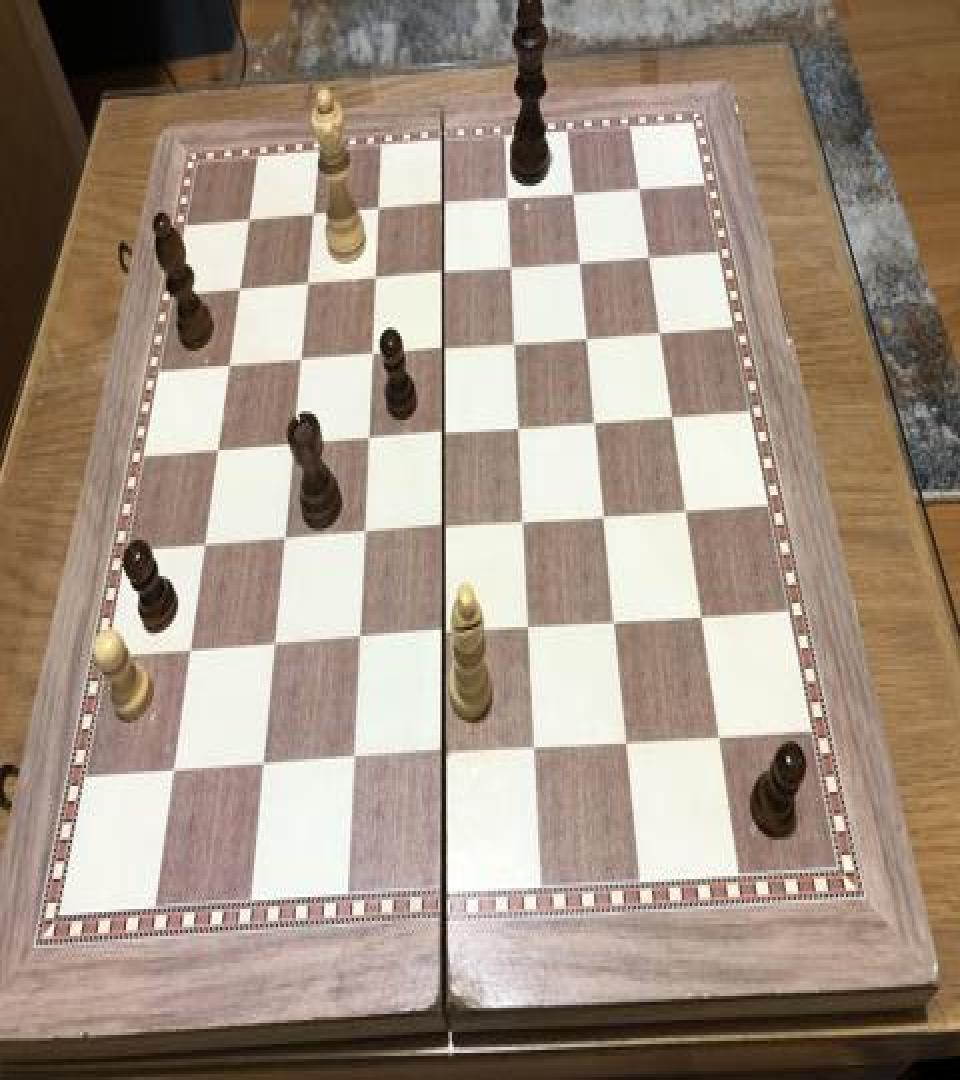xcorner: (690, 601, 714, 638), (346, 625, 370, 662), (261, 631, 285, 668), (176, 637, 200, 674), (614, 727, 638, 764), (522, 733, 546, 770), (431, 739, 455, 776), (629, 171, 653, 207), (563, 177, 587, 213), (498, 182, 522, 218), (367, 194, 391, 230), (302, 198, 326, 234), (237, 204, 261, 240), (639, 240, 663, 276), (570, 244, 594, 280), (501, 250, 525, 286), (432, 256, 456, 292), (364, 262, 388, 298), (295, 268, 319, 304), (228, 273, 252, 309), (650, 315, 674, 351), (577, 321, 601, 357), (504, 327, 528, 363), (432, 333, 456, 369), (360, 339, 384, 375), (288, 345, 312, 381), (217, 350, 241, 386), (661, 400, 685, 436), (584, 406, 608, 442), (432, 418, 456, 454), (356, 424, 380, 460), (280, 429, 304, 465), (205, 435, 229, 471), (675, 495, 699, 531), (593, 501, 617, 537), (512, 507, 536, 543), (431, 513, 455, 549), (351, 519, 375, 555), (271, 525, 295, 561), (191, 531, 215, 567), (603, 608, 627, 644), (517, 614, 541, 650), (431, 620, 455, 656), (707, 722, 731, 758), (340, 747, 364, 783), (249, 753, 273, 789), (159, 759, 183, 795), (432, 188, 456, 223), (508, 413, 532, 448)
